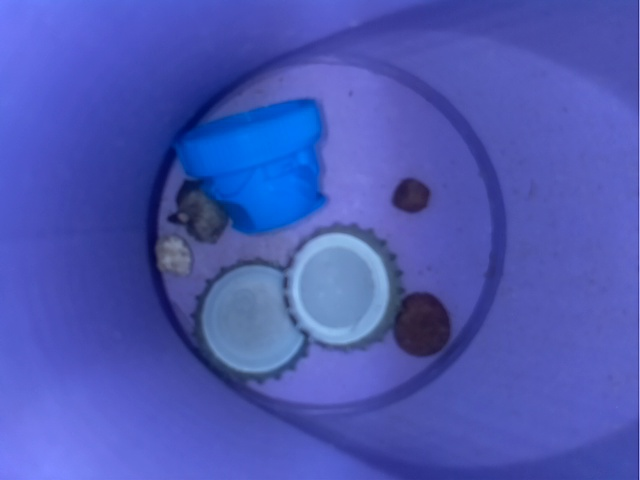bouchon: (170, 93, 351, 235)
caillou: (150, 226, 193, 278)
capsule: (276, 220, 408, 359), (191, 257, 316, 391)
croquette: (384, 289, 458, 356), (386, 173, 434, 221)
